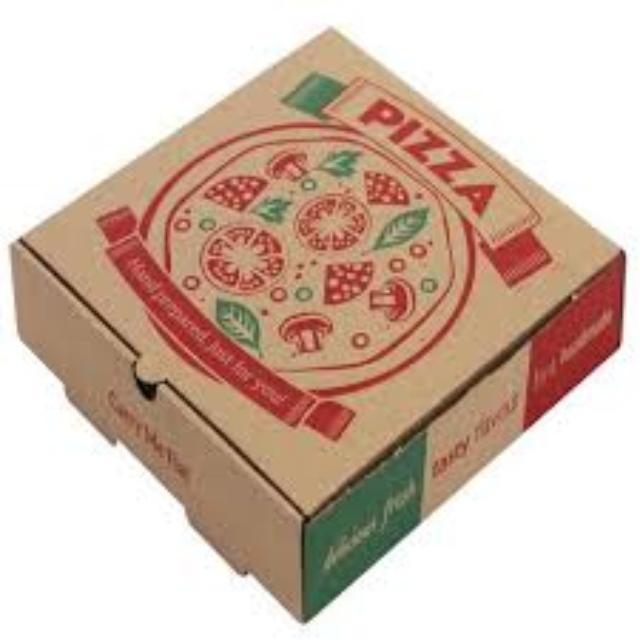cardboard paper: (9, 26, 620, 614)
